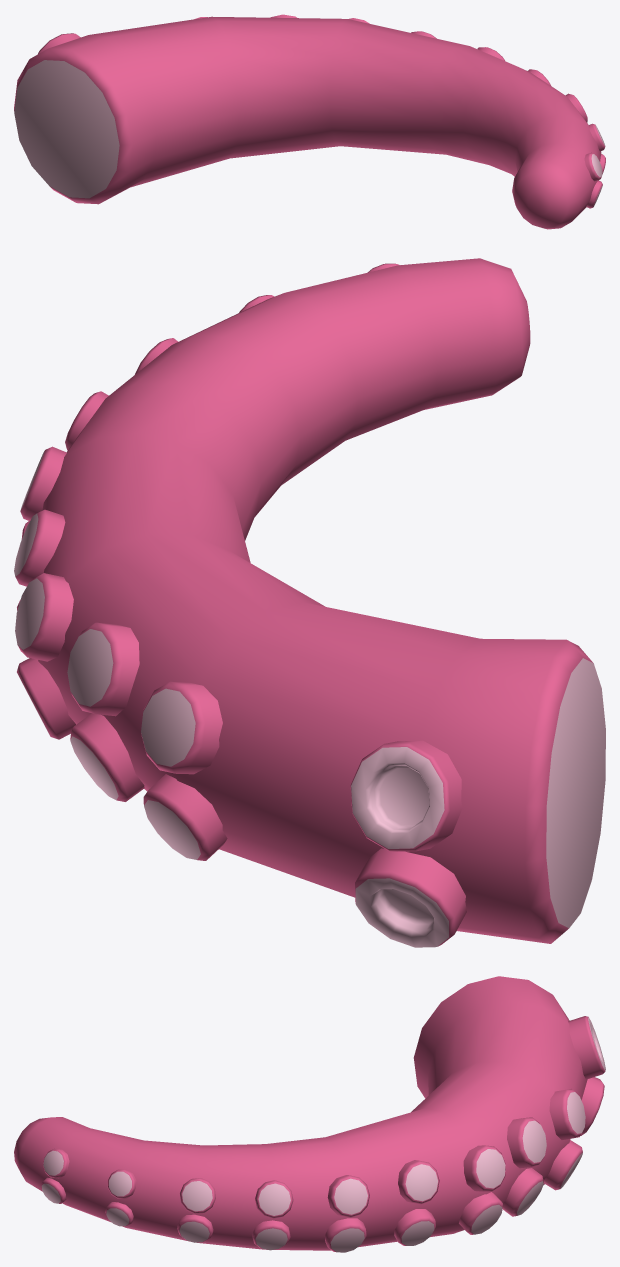
Rendered from Octopus_Tentacles_1_Piece_3.fbx.
The picture shows the model from 3 angles, top to bottom: view 1: azimuth 30°, elevation 25°; view 2: azimuth 150°, elevation 25°; view 3: azimuth 270°, elevation 25°; orthographic projection. The views are drawn at different scales.
Parts seen in each view (by area): view 1: Octopus_Tentacles_1_Piece_3; view 2: Octopus_Tentacles_1_Piece_3; view 3: Octopus_Tentacles_1_Piece_3.
Boxes of the visible parts, x1,y1,x2,y2 form: Octopus_Tentacles_1_Piece_3: (14, 14, 605, 229); Octopus_Tentacles_1_Piece_3: (14, 258, 605, 947); Octopus_Tentacles_1_Piece_3: (14, 976, 605, 1252).
Size of the model in its own units: 15.61 by 5.64 by 19.83.
